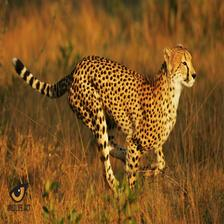Cheetah: (12, 41, 197, 196)
